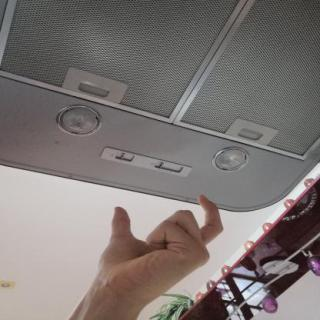NOON: (82, 188, 234, 317)
